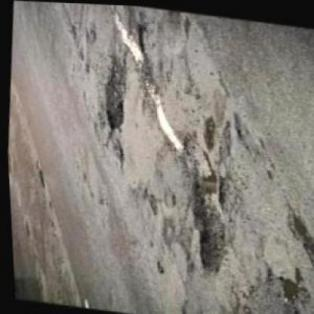Hueco: (164, 126, 237, 273), (97, 50, 131, 132), (270, 260, 313, 313), (279, 206, 313, 268)
